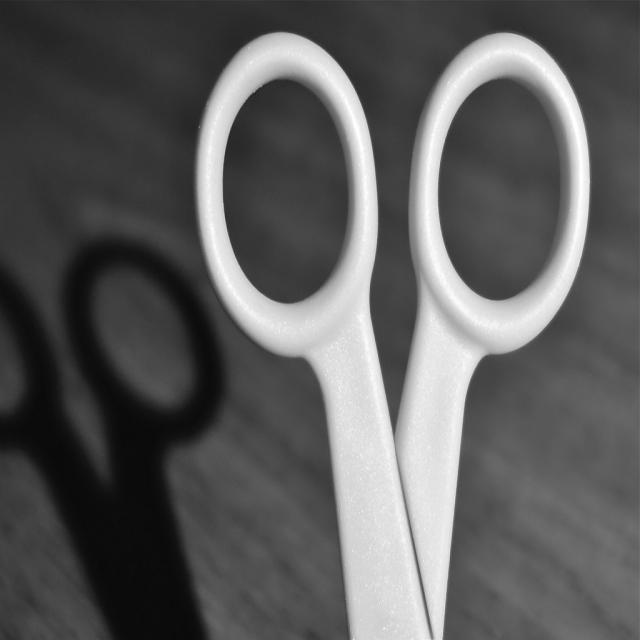scissors: (193, 28, 591, 638)
